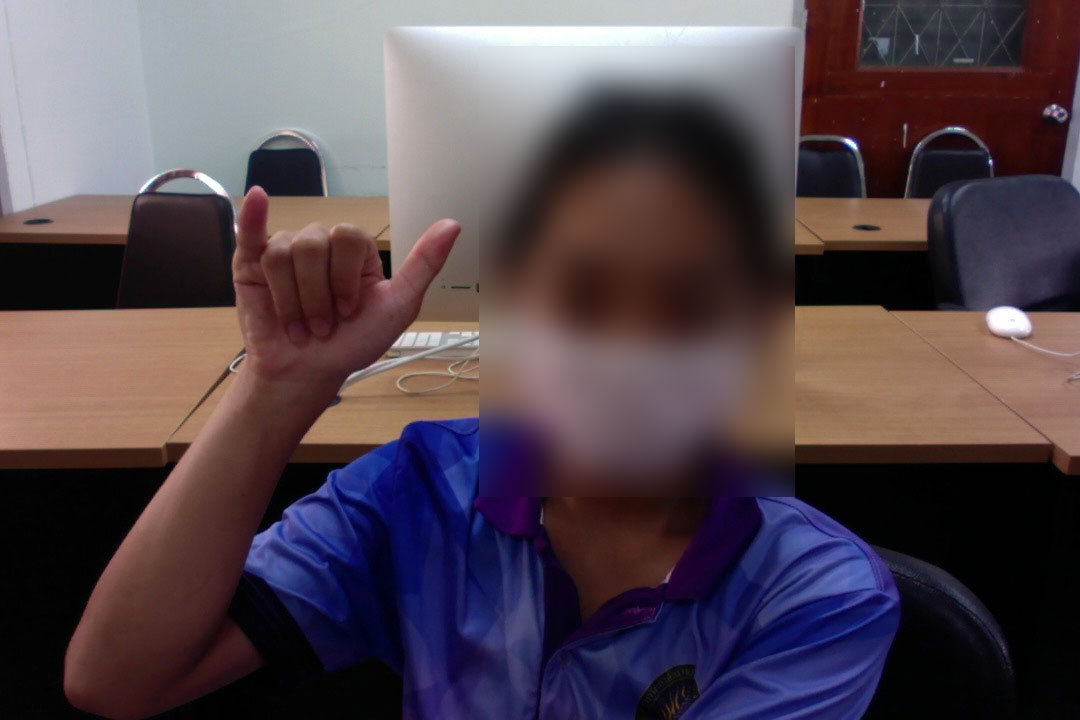yor: (223, 176, 466, 398)
